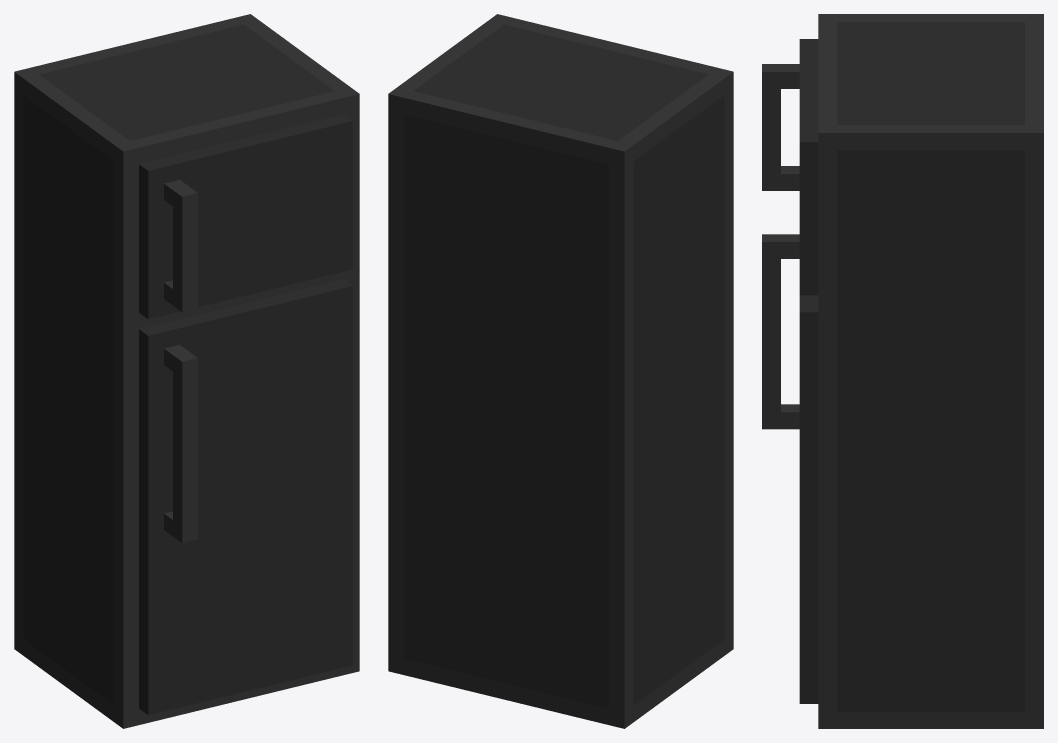
File: Decor-41.obj
The picture shows the model from 3 angles, left to right: view 1: azimuth 30°, elevation 25°; view 2: azimuth 150°, elevation 25°; view 3: azimuth 270°, elevation 25°; orthographic projection. The views are drawn at different scales.
Size of the model in its own units: 1.5 by 3.5 by 1.5.
1 material, 1 textured.
